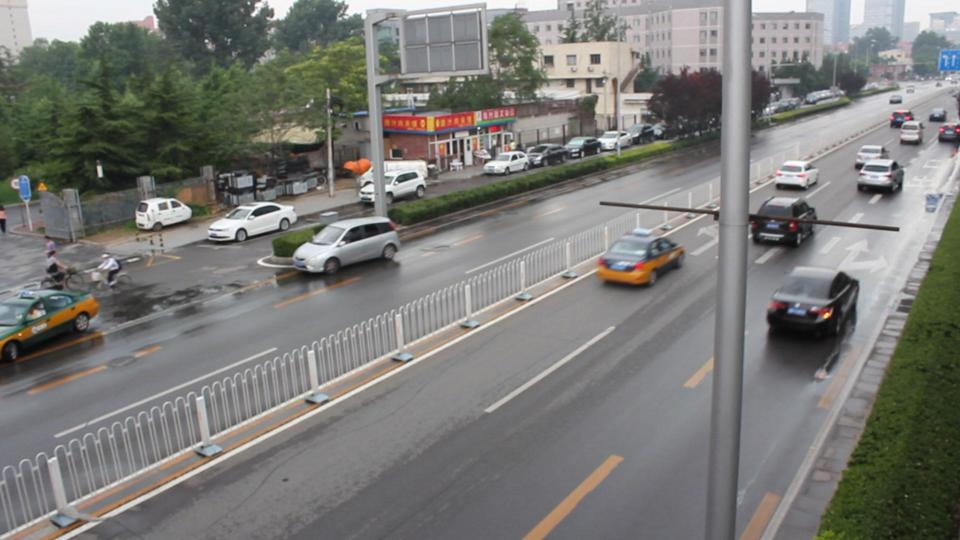car: (1, 287, 98, 364), (763, 266, 860, 330), (594, 225, 686, 288), (206, 201, 296, 244), (356, 170, 426, 208), (772, 161, 820, 191), (853, 145, 889, 170)
microbus: (289, 215, 399, 274)
suv: (750, 195, 816, 247), (853, 161, 906, 192)
truck: (359, 158, 432, 191)
